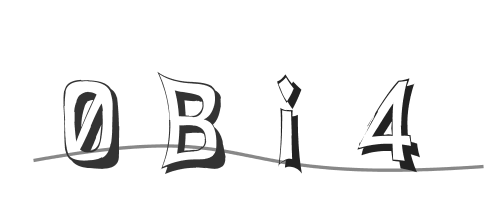0: (59, 77, 124, 169)
4: (354, 71, 419, 176)
B: (153, 67, 228, 180)
i: (264, 69, 309, 167)
